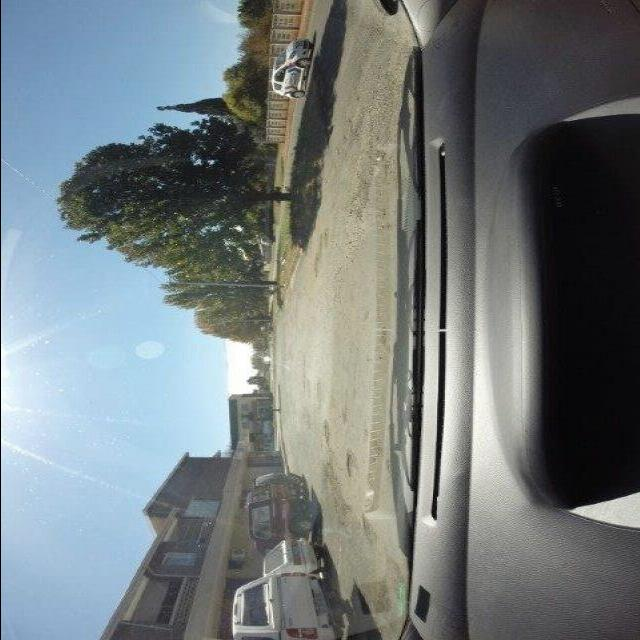jalan retak: (338, 100, 392, 244)
lubang: (318, 463, 348, 525), (307, 225, 332, 287), (341, 447, 358, 481), (322, 416, 329, 443)
